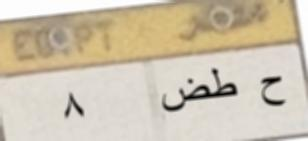7aa: (256, 67, 287, 110)
8: (59, 88, 88, 122)
Taa: (207, 66, 240, 101)
daad: (159, 76, 208, 113)
